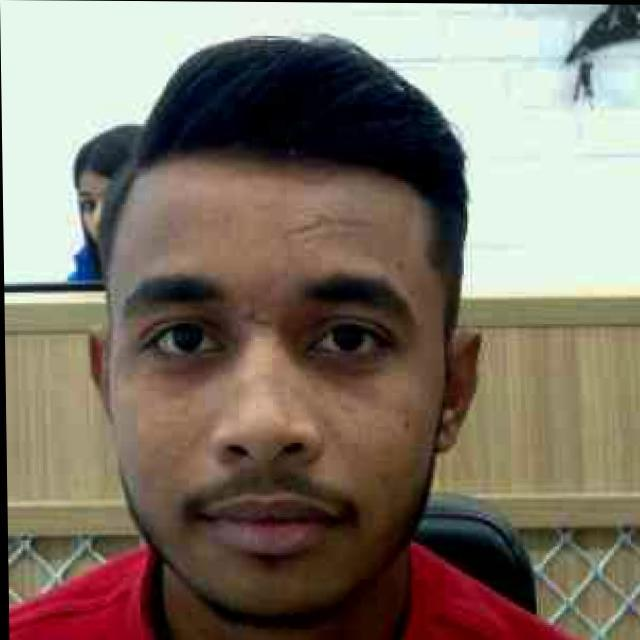puffy_eyes: (144, 351, 238, 393)
